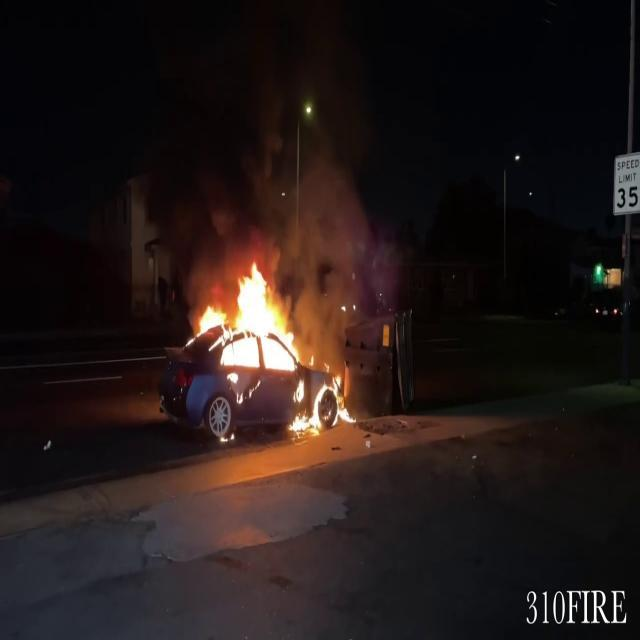Fire: (189, 256, 351, 436)
Smoke: (129, 2, 407, 274)
